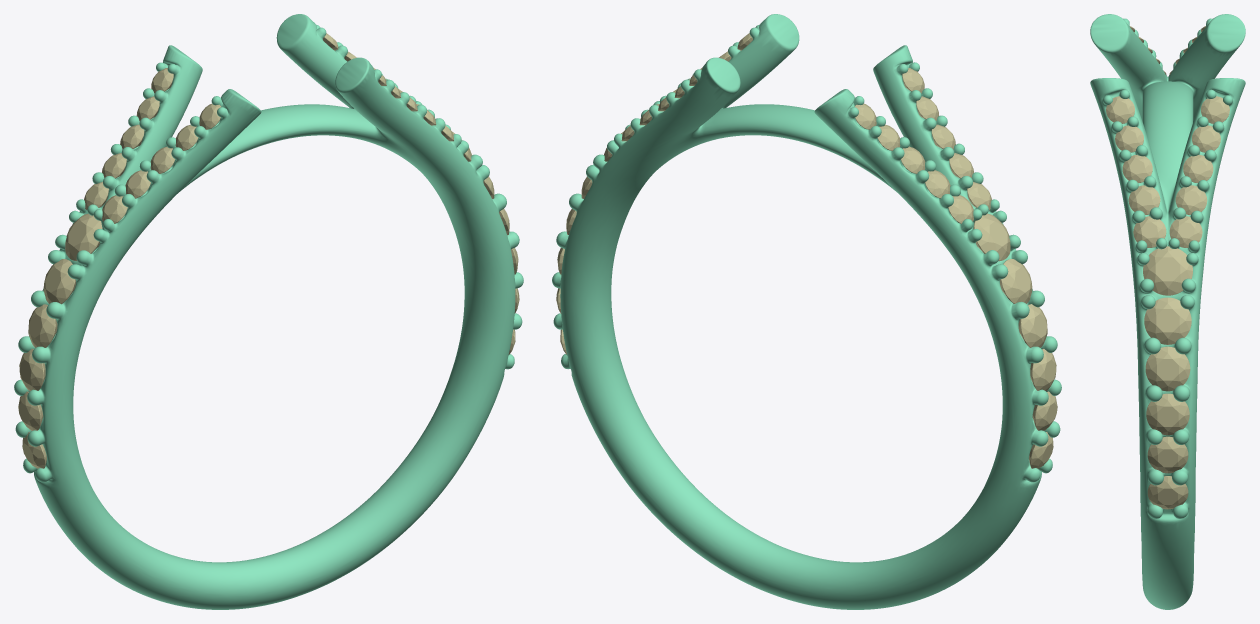
3 renders of one model, left to right at view 1: azimuth 30°, elevation 25°; view 2: azimuth 150°, elevation 25°; view 3: azimuth 270°, elevation 25°, orthographic.
Parts seen in each view (by area): view 1: Metal02, Diamond_Gem.025, Diamond_Gem.023, Diamond_Gem.024, Diamond_Gem.022; view 2: Metal02, Diamond_Gem.025, Diamond_Gem.023, Diamond_Gem.024, Diamond_Gem.022; view 3: Metal02, Diamond_Gem.026, Diamond_Gem.028, Diamond_Gem.027, Diamond_Gem.029, Diamond_Gem.031, Diamond_Gem.030, Diamond_Gem.016, Diamond_Gem.015, Diamond_Gem.017, Diamond_Gem.014, Diamond_Gem.018 (+5 smaller).
Part boxes in pixels (left/top/right/bottom): Metal02: left=14, top=14, right=523, bottom=609; Diamond_Gem.025: left=65, top=213, right=102, bottom=261; Diamond_Gem.023: left=43, top=259, right=75, bottom=304; Diamond_Gem.024: left=28, top=304, right=57, bottom=347; Diamond_Gem.022: left=19, top=349, right=45, bottom=391; Metal02: left=552, top=14, right=1061, bottom=609; Diamond_Gem.025: left=973, top=213, right=1010, bottom=261; Diamond_Gem.023: left=1000, top=259, right=1032, bottom=303; Diamond_Gem.024: left=1018, top=304, right=1047, bottom=347; Diamond_Gem.022: left=1030, top=348, right=1056, bottom=391; Metal02: left=1090, top=14, right=1245, bottom=609; Diamond_Gem.026: left=1143, top=246, right=1192, bottom=295; Diamond_Gem.028: left=1144, top=297, right=1191, bottom=344; Diamond_Gem.027: left=1145, top=346, right=1190, bottom=391; Diamond_Gem.029: left=1146, top=393, right=1189, bottom=435; Diamond_Gem.031: left=1147, top=436, right=1188, bottom=473; Diamond_Gem.030: left=1147, top=476, right=1188, bottom=509; Diamond_Gem.016: left=1169, top=216, right=1202, bottom=247; Diamond_Gem.015: left=1133, top=216, right=1166, bottom=247; Diamond_Gem.017: left=1175, top=185, right=1207, bottom=214; Diamond_Gem.014: left=1128, top=185, right=1160, bottom=214; Diamond_Gem.018: left=1183, top=155, right=1213, bottom=182.
Bounding box in the file's own units: 21.29 × 22.55 × 5.9.
